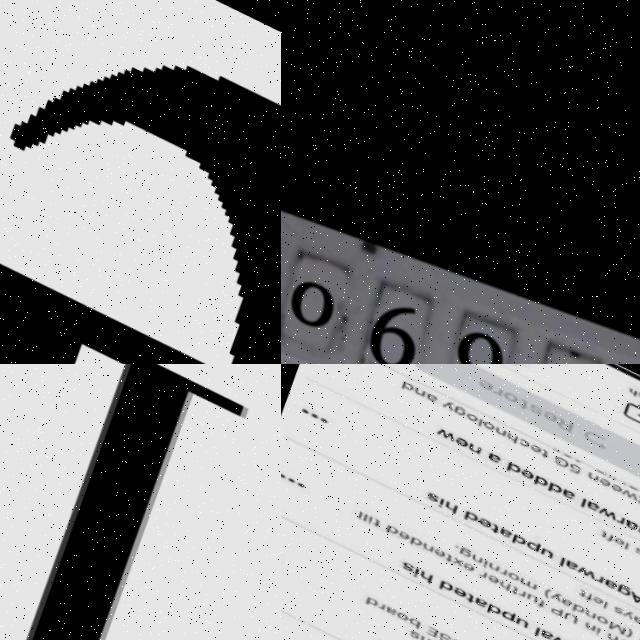0: (281, 242, 358, 361), (634, 626, 640, 638)
1: (0, 364, 279, 640)
5: (566, 454, 578, 466)
6: (424, 301, 523, 364)
8: (511, 330, 612, 364)
9: (341, 271, 442, 364)
E: (0, 55, 281, 364)
